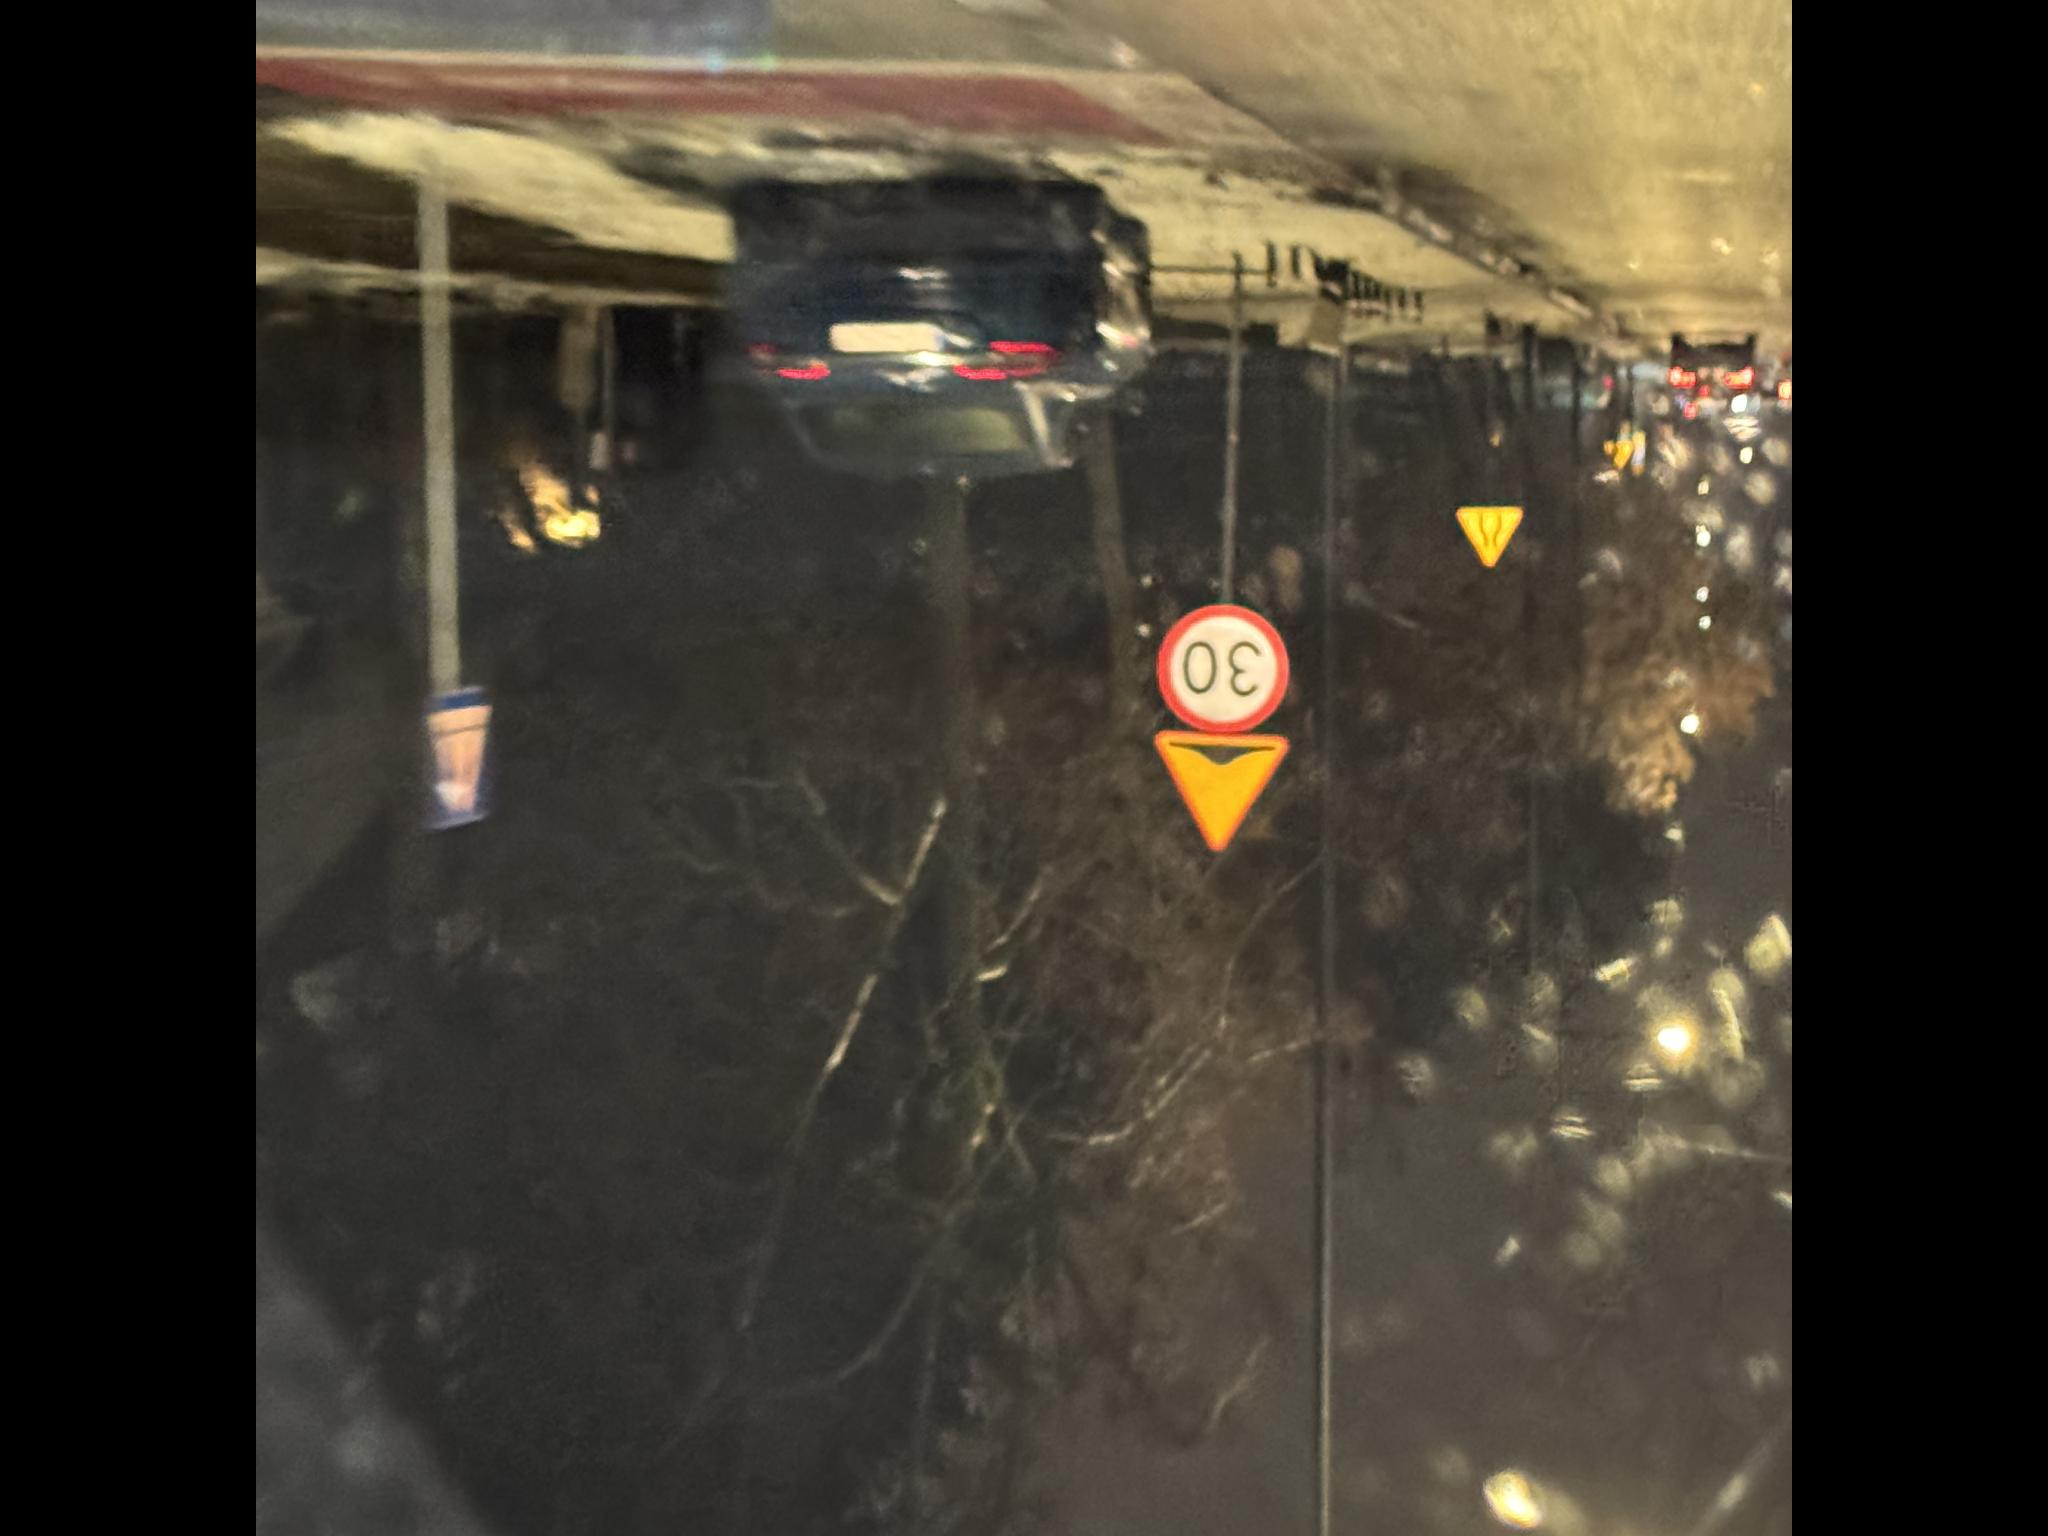information: (1218, 418, 1366, 491)
prohibitory: (1316, 1156, 1446, 1290)
warning: (1194, 1153, 1320, 1291), (1480, 1454, 1544, 1526)
